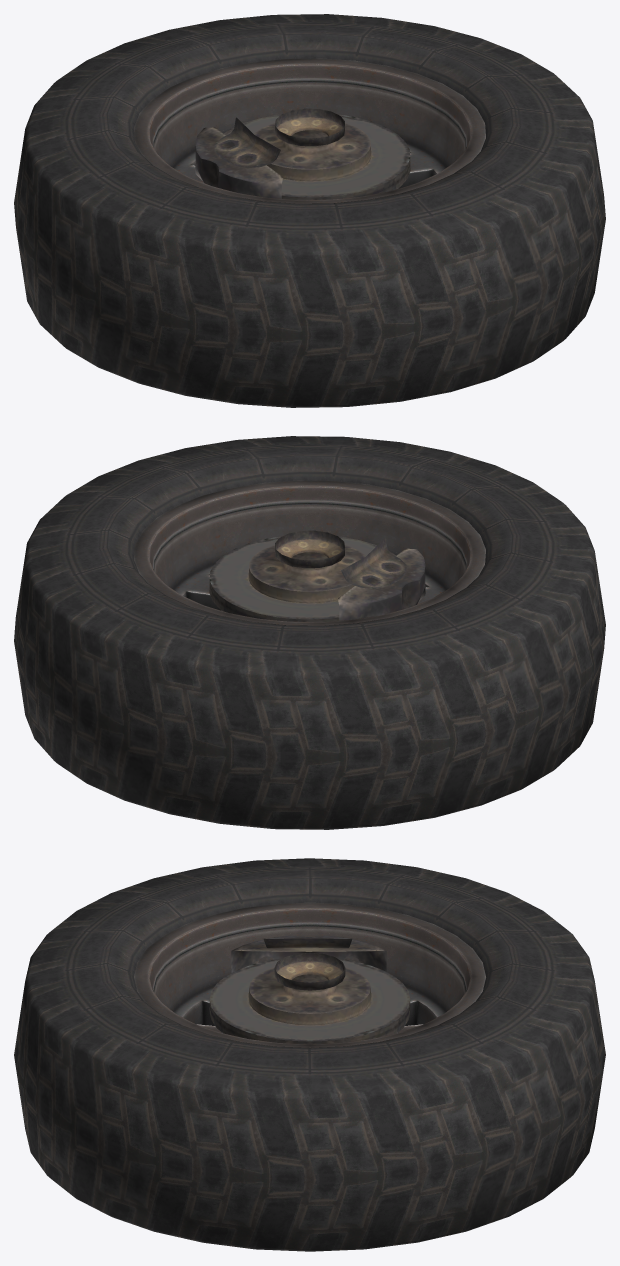
Rendered from Buggy_Wheel_RB.obj.
3 views of the same model, one above another, from view 1: azimuth 30°, elevation 25°; view 2: azimuth 150°, elevation 25°; view 3: azimuth 270°, elevation 25° (orthographic).
Parts seen in each view (by area): view 1: RB_Wheel; view 2: RB_Wheel; view 3: RB_Wheel.
Part boxes in pixels (x1,y1,x2,y2): RB_Wheel: (14,14,605,407); RB_Wheel: (14,436,605,829); RB_Wheel: (14,858,605,1251).
Bounding box in the file's own units: 0.8322 × 0.2836 × 0.8322.
2 materials, 2 textured.
